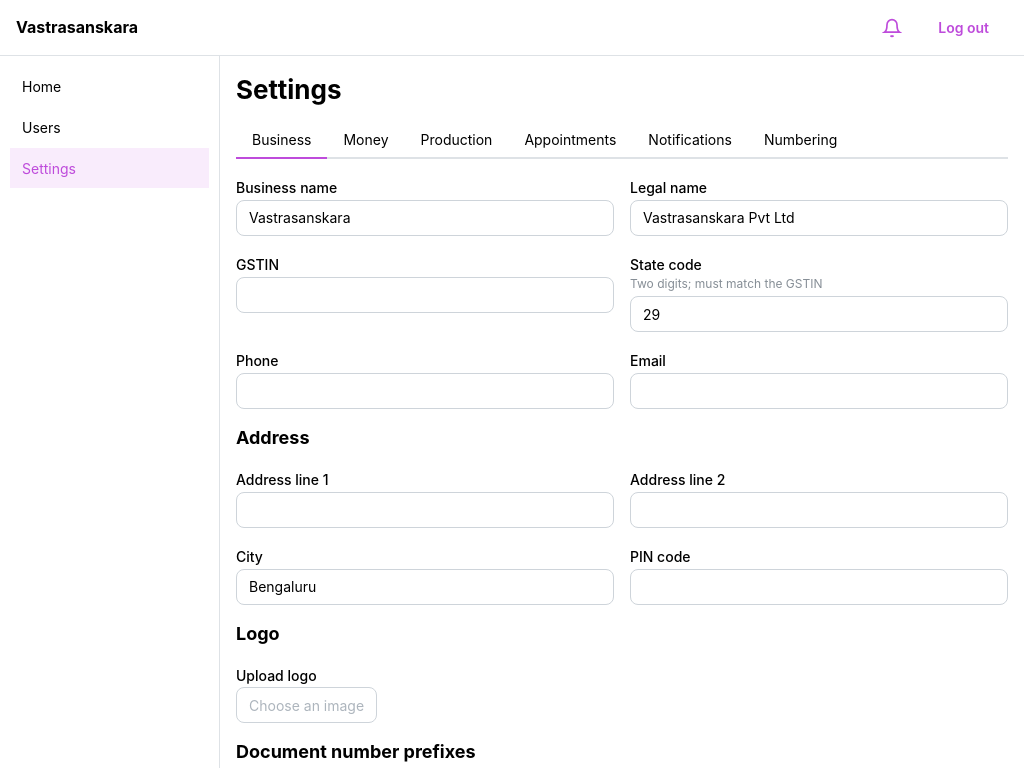
Test: saves bill due days and shows field errors
This screenshot has width=1024, height=768.
Click the tab "Money". click: (366, 141)
box: top-left (327, 123), bottom-right (404, 159)
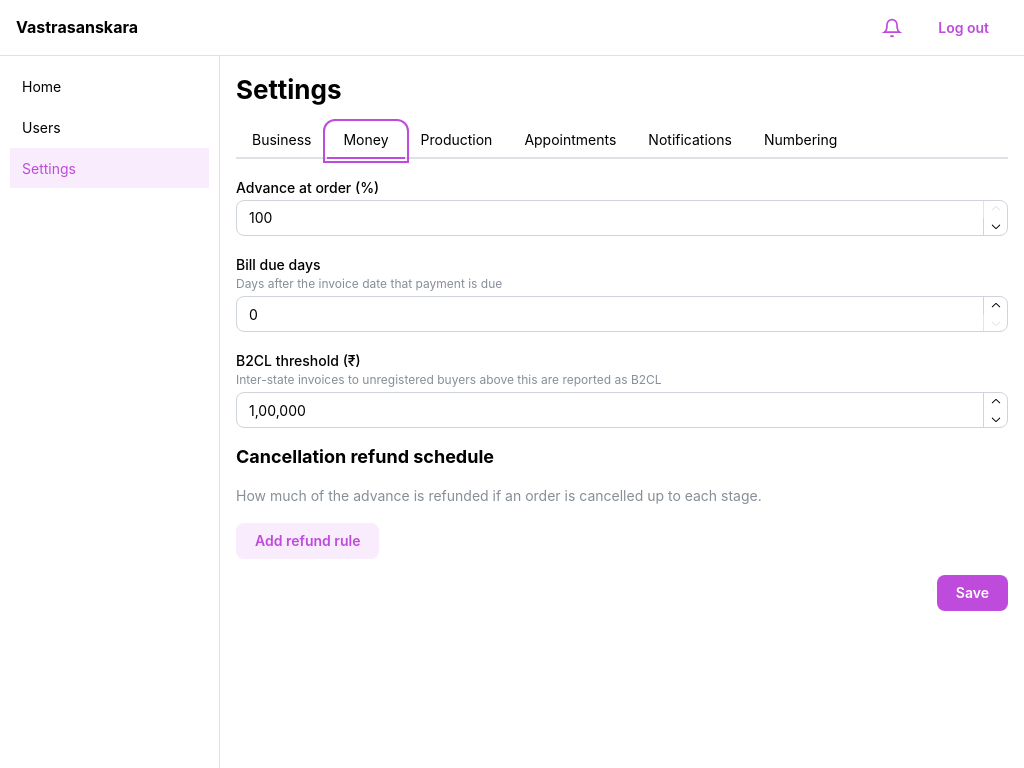
Replace the text in the field labelled "Bill due days" with "400". click: (622, 314)
box: top-left (236, 296), bottom-right (1008, 332)
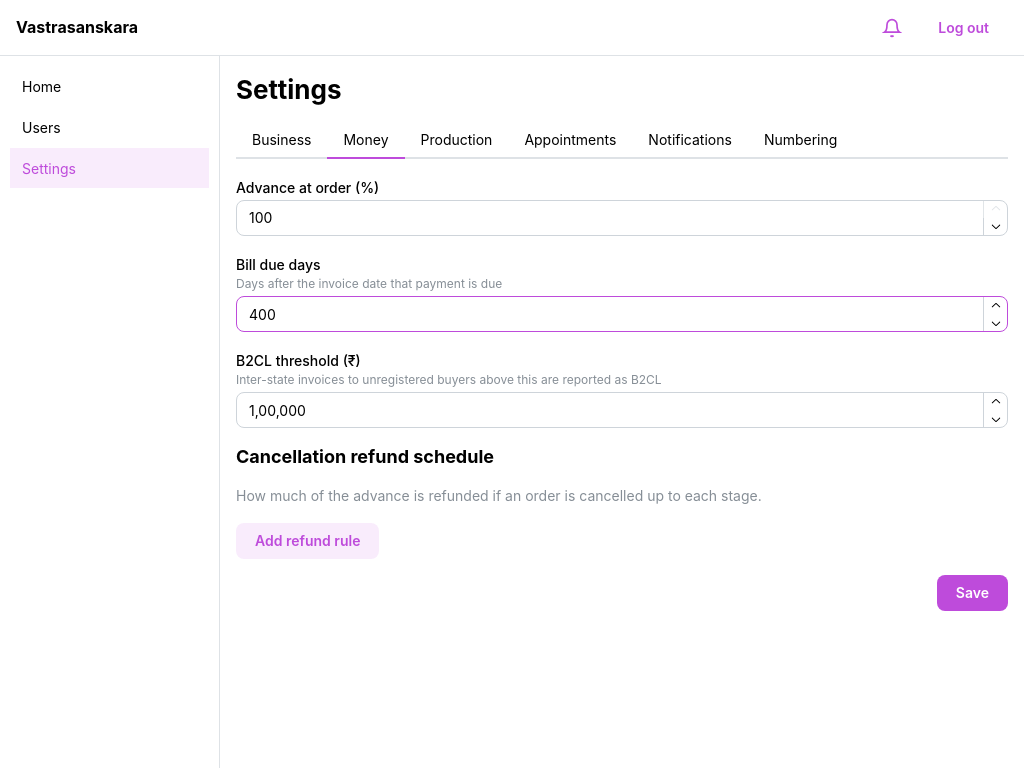
Click the button "Save". click: (972, 593)
box: top-left (937, 575), bottom-right (1008, 611)
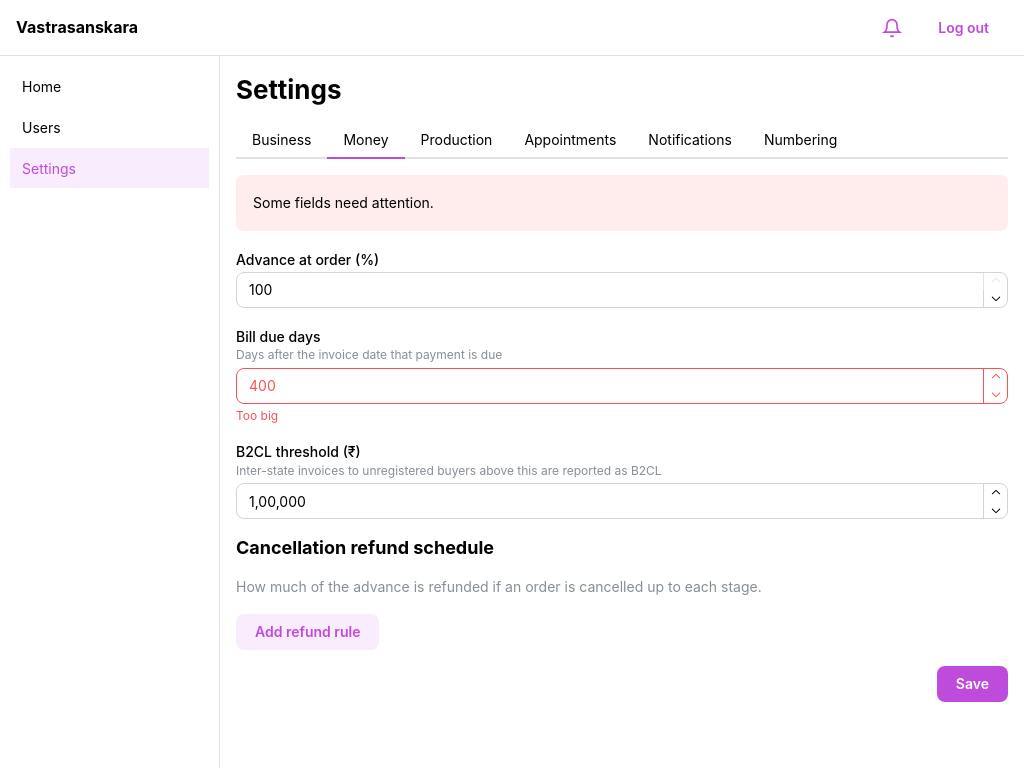
Expected: the text "Too big" is shown, top-left (236, 408), bottom-right (278, 423)
